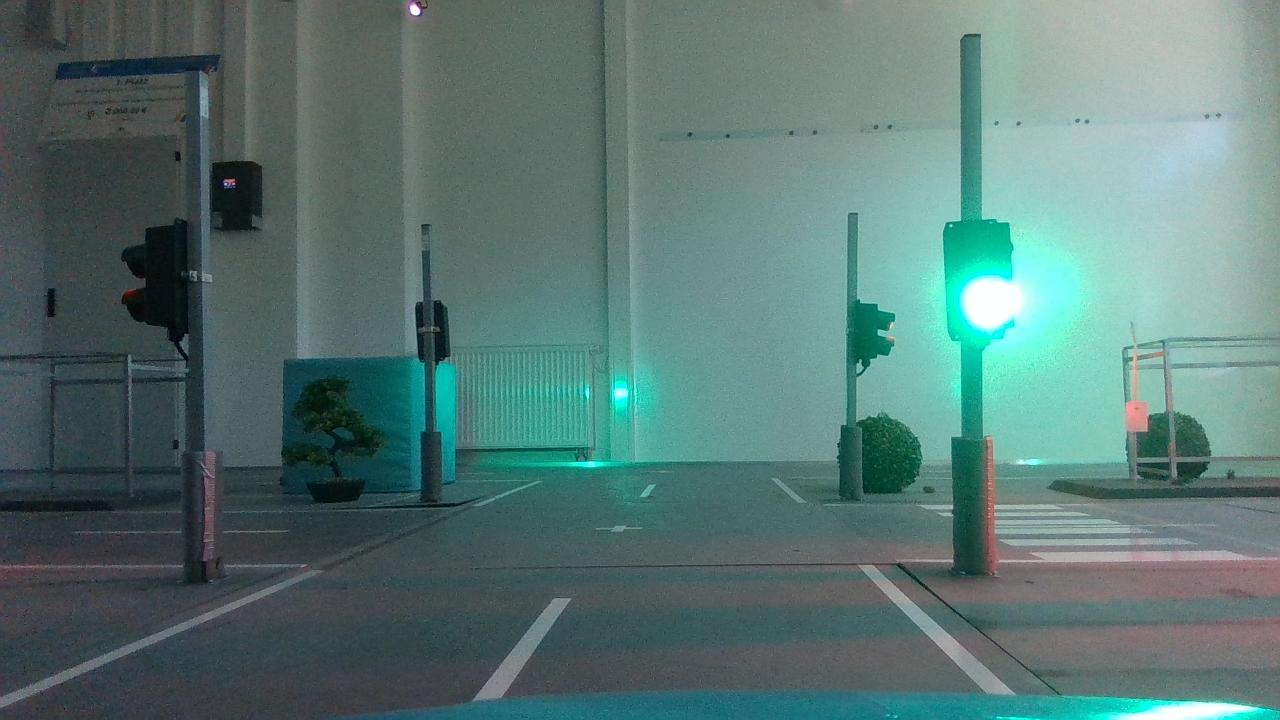traffic_light_green: (932, 207, 1035, 356)
